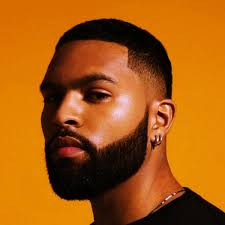b.y: (46, 133, 103, 195)
